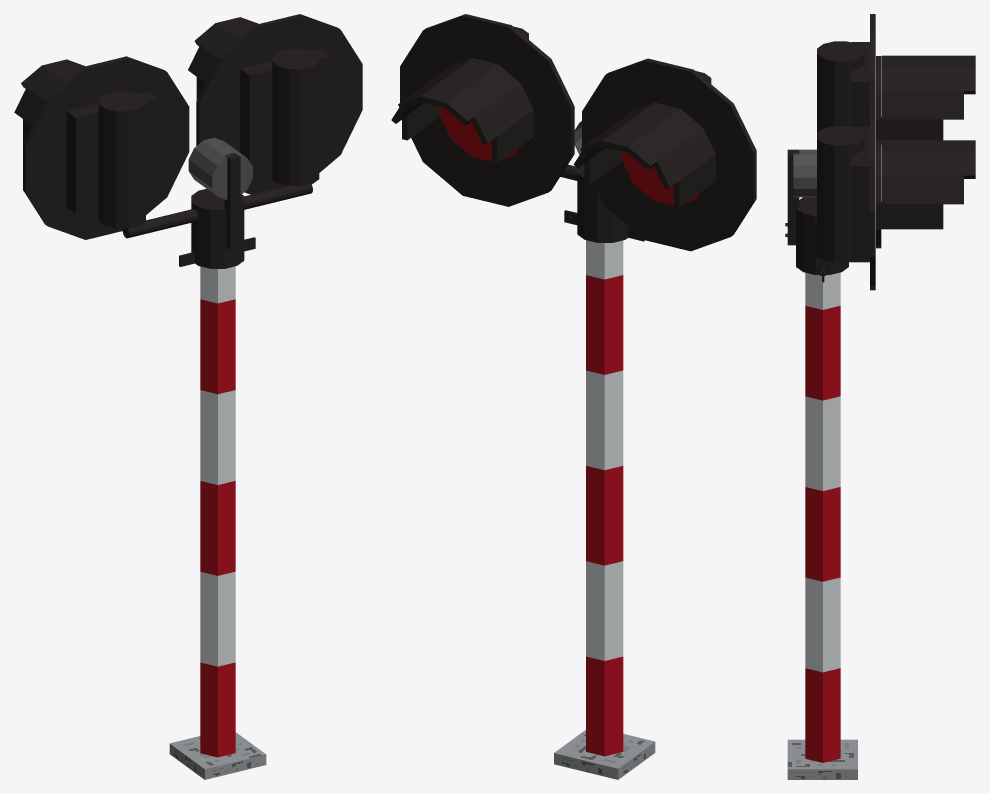
Rendered from sd-k2_with_bell_no_cross.obj.
3 renders of one model, left to right at view 1: azimuth 30°, elevation 25°; view 2: azimuth 150°, elevation 25°; view 3: azimuth 270°, elevation 25°, orthographic. The views are drawn at different scales.
Parts seen in each view (by area): view 1: cuboid; view 2: cuboid, mrygR, mrygL; view 3: cuboid.
Boxes of the visible parts, x1=… form: cuboid: x1=14, y1=14, x2=362, y2=779; cuboid: x1=391, y1=14, x2=756, y2=779; mrygR: x1=440, y1=107, x2=519, y2=161; mrygL: x1=622, y1=151, x2=700, y2=205; cuboid: x1=785, y1=14, x2=975, y2=779.
Bounding box in the file's own units: 1.03 × 2.05 × 0.5063.
Materials: 1 (1 with a texture image).
